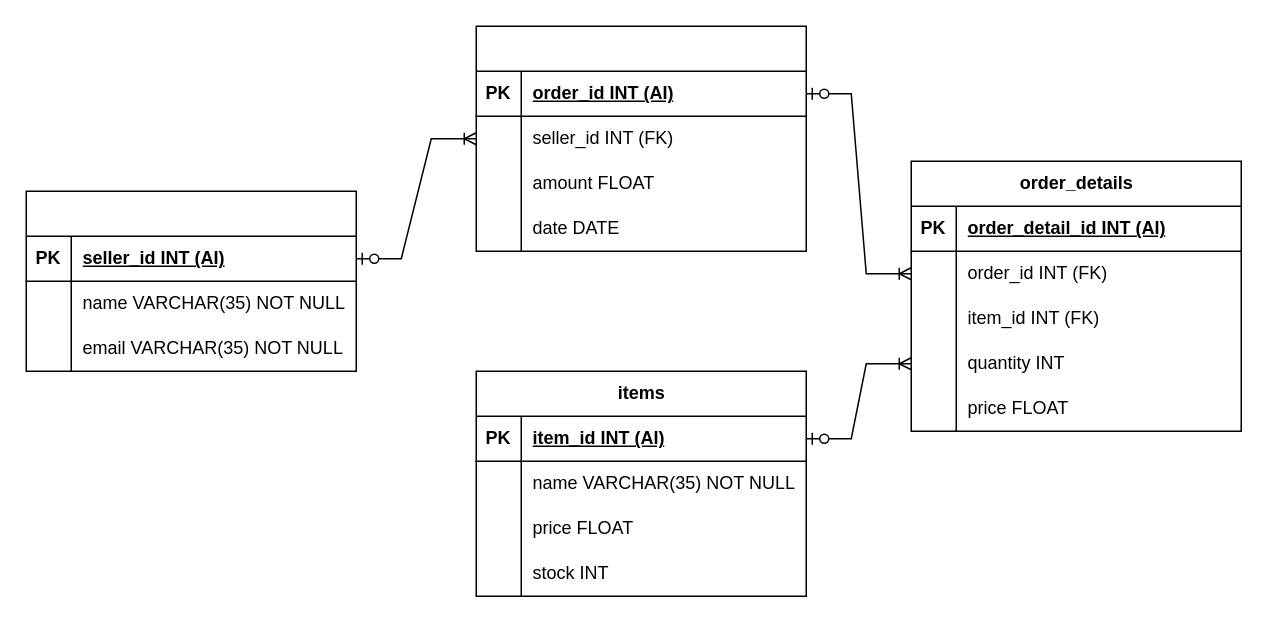
Image size: 1268x623. Some labels were removed from this diagram. The shapes that lost their labels are listed below. From the top down, each one's box as (x1, y1, x2, y2) in pixels, then its label:
(475, 25, 806, 251): orders
(25, 190, 356, 371): sellers
